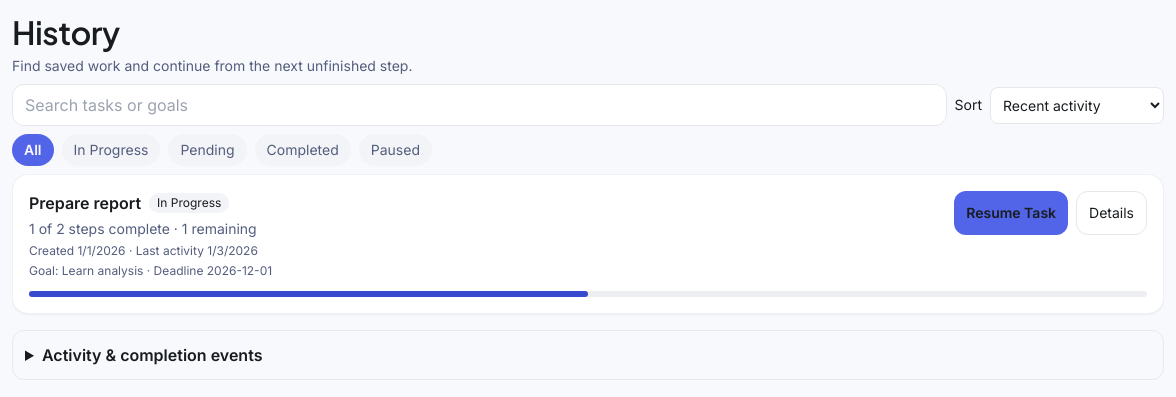
it: saved task history and resume › does not start a goal task while its prerequisite is unfinished
The width and height of the screenshot is (1176, 397).
What coordinates should you click on to do the following:
click the button "Resume Task"
I would click on:
 (1011, 213)
Its box is x1=954 y1=191 x2=1068 y2=235.
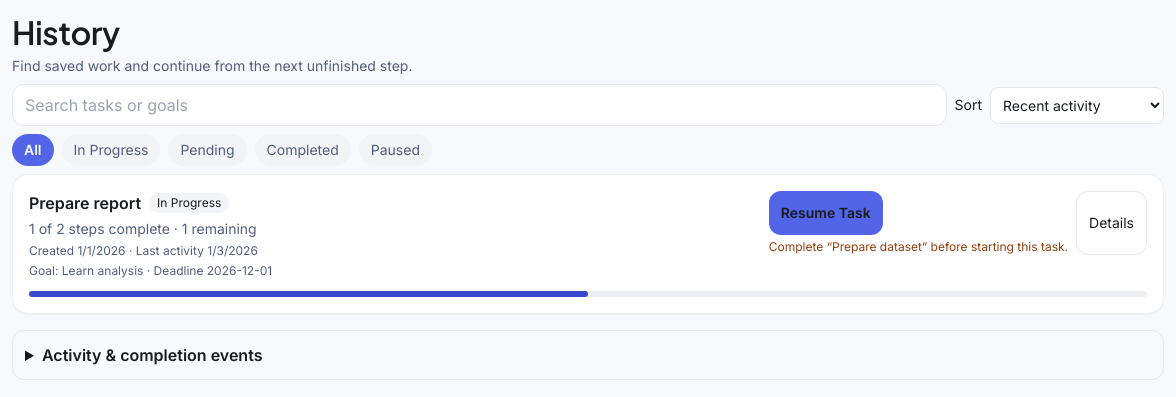
Result: the message reads "Complete “Prepare dataset” before starting this task." at x1=769 y1=239 x2=1068 y2=254
